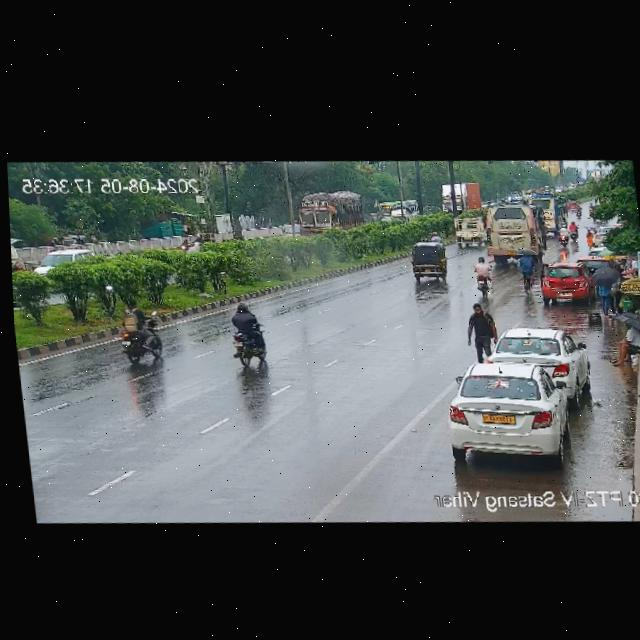bus: (481, 198, 548, 261), (531, 191, 569, 227)
car: (441, 354, 578, 468), (487, 320, 591, 397), (27, 241, 98, 279), (539, 262, 596, 305), (407, 241, 448, 283)
motorcycle: (219, 294, 276, 371), (111, 303, 172, 367), (513, 247, 541, 294), (471, 255, 492, 299), (178, 230, 206, 255), (556, 224, 568, 248), (426, 230, 443, 246), (567, 218, 579, 240), (576, 202, 582, 218)
person: (602, 315, 640, 369), (464, 300, 496, 357), (596, 278, 622, 317), (586, 228, 594, 244)
truck: (296, 184, 367, 236), (436, 181, 480, 214), (451, 212, 483, 251)
